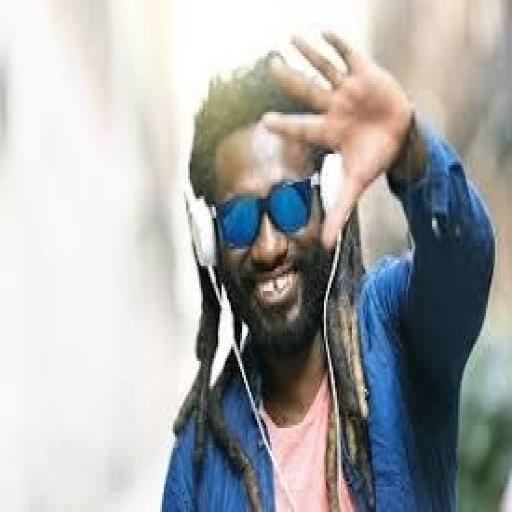listening_to_music: (158, 22, 499, 510)
